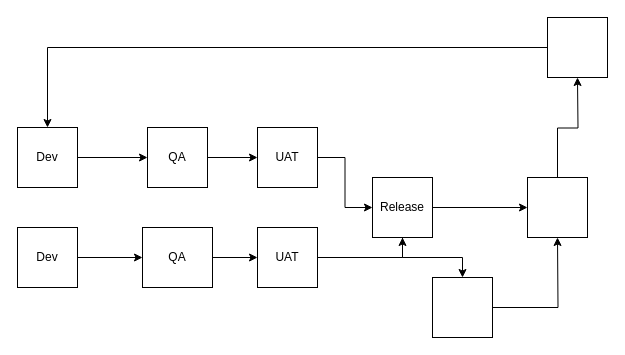
Some shapes in this 625 by 355 pixel diagram are drawn without their labels. Here are the shapes that lost their labels. From the top down, the centre of each, then its label:
At (x=577, y=47): "Master".
At (x=557, y=207): "Prod".
At (x=462, y=307): "Release HotFix".
